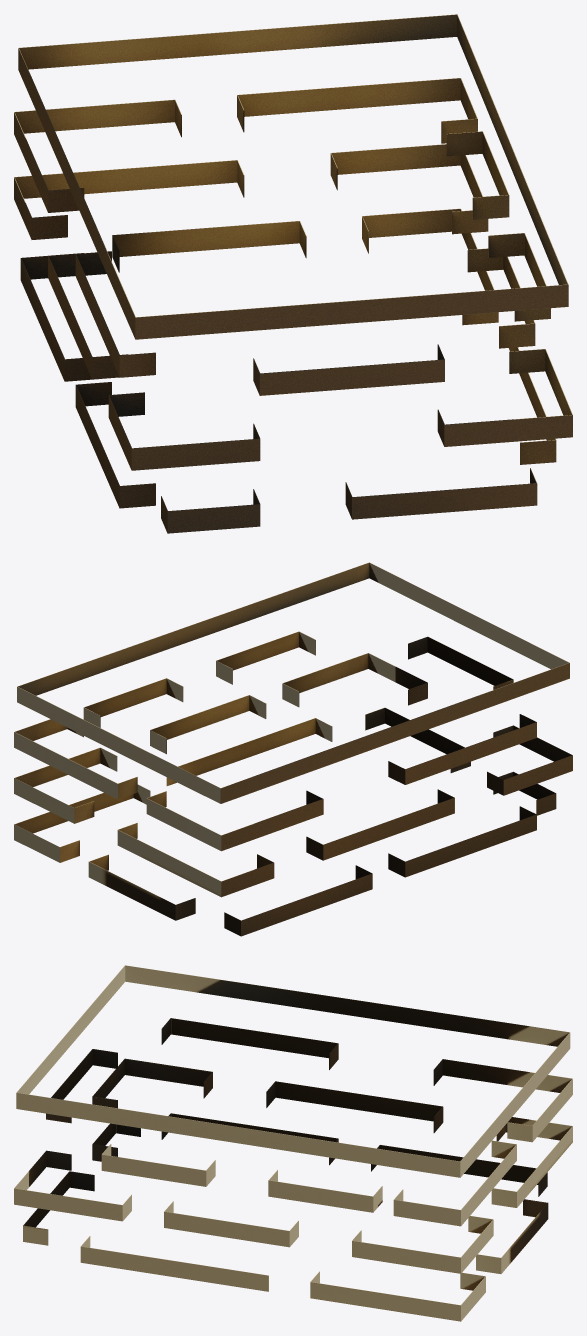
File: Balustrade_04.fbx
3 renders of one model, top to bottom at view 1: azimuth 30°, elevation 25°; view 2: azimuth 150°, elevation 25°; view 3: azimuth 270°, elevation 25°, orthographic. The views are drawn at different scales.
Visible parts, largest first — view 1: Balustrade_04; view 2: Balustrade_04; view 3: Balustrade_04.
Part boxes in pixels (x1,y1,x2,y2): Balustrade_04: [14, 14, 572, 533]; Balustrade_04: [14, 562, 572, 936]; Balustrade_04: [14, 965, 572, 1321].
Bounding box in the file's own units: 26.39 × 9.8 × 31.31.
1 material, 1 textured.
